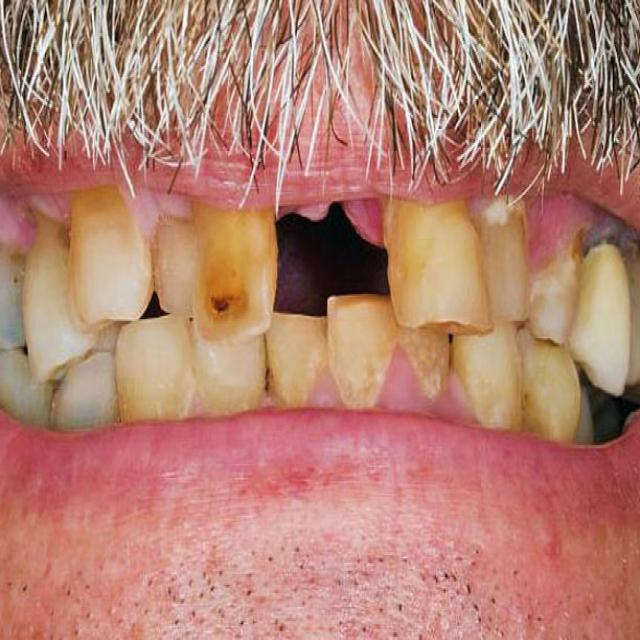caries: (206, 280, 250, 328)
